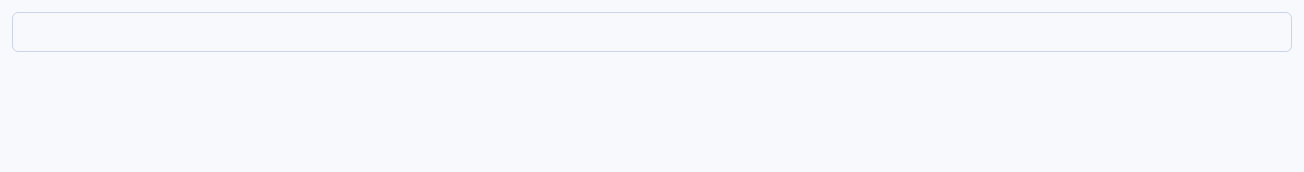
it: NumericInput › keeps the intermediate comma state while typing in en locale
Type "6," into the field with test id "numeric-input" at (652, 32), box [12,12,1292,52]
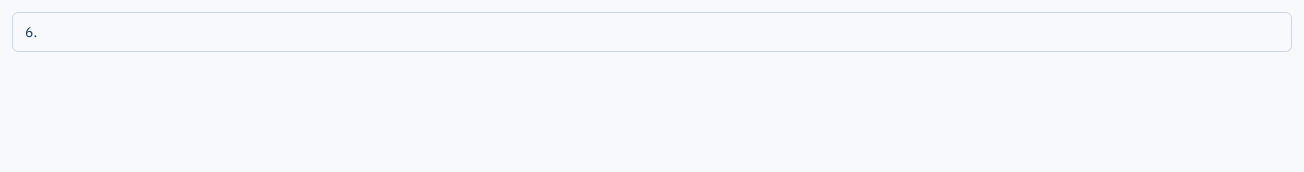
Check: the field with test id "numeric-input" holds "6.", box [12,12,1292,52]
